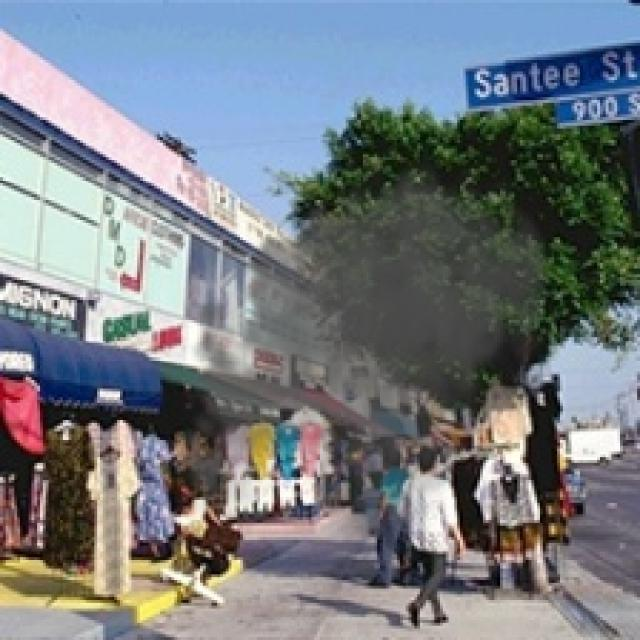Smoke: (168, 145, 558, 540)
